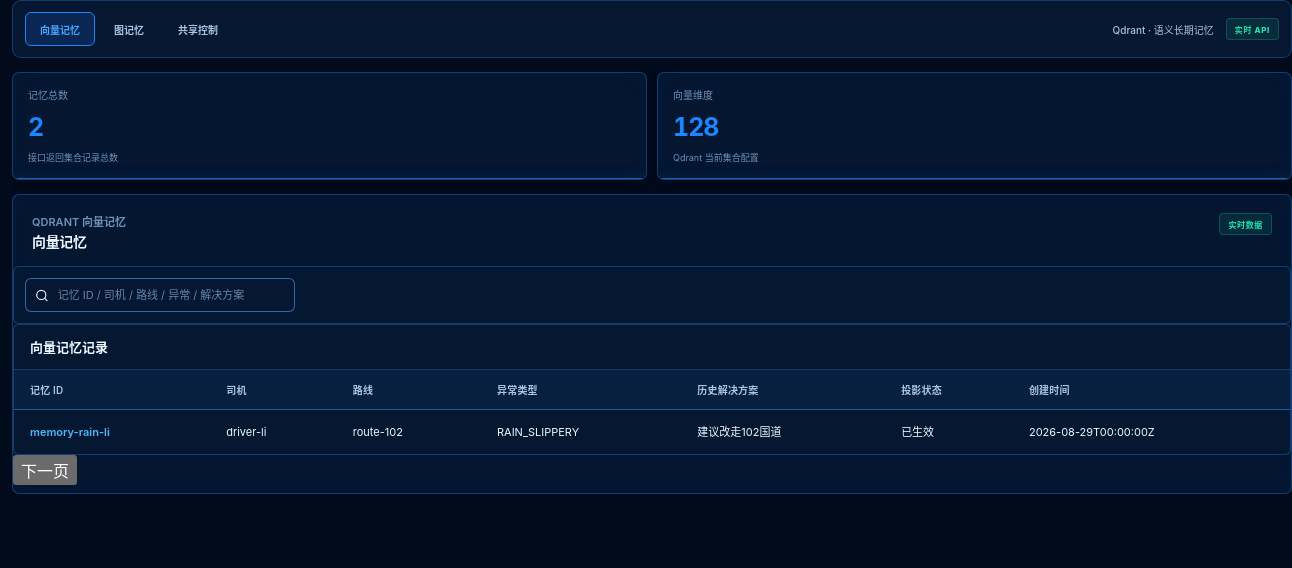
Scenario: vector memory API list › recovers from an empty cursor page through previous and home controls
The width and height of the screenshot is (1292, 568).
Click the button "下一页": (45, 470) [13,454,77,484]
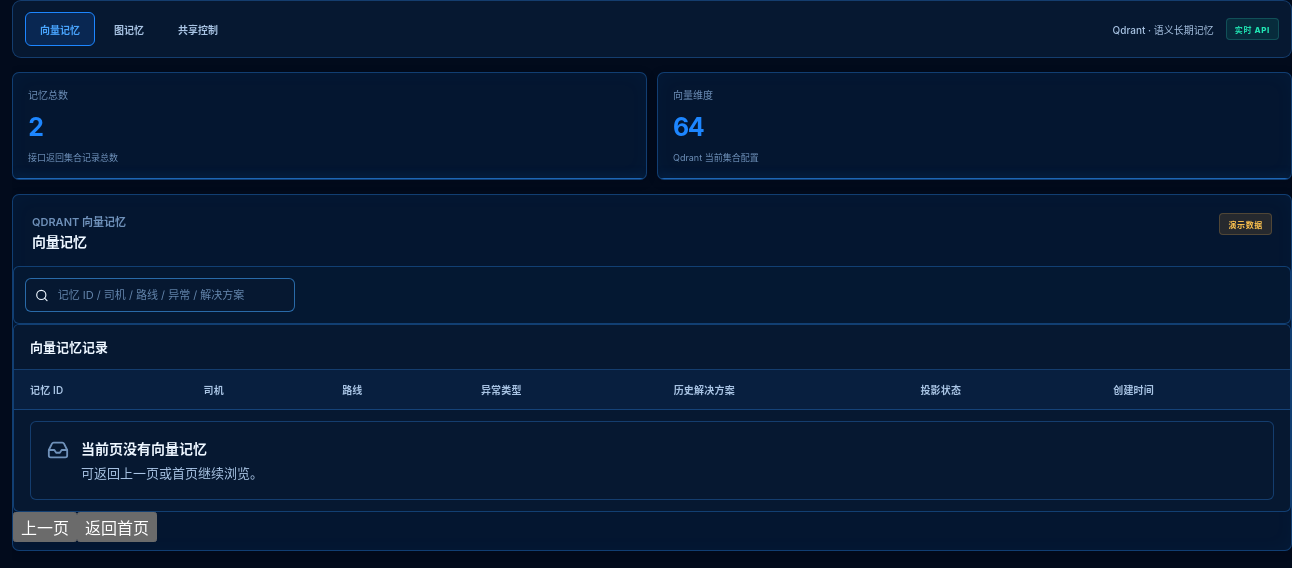
Now the text "当前页没有向量记忆" is shown, box [81,440,207,457]
Now the text "上一页" is shown, box [81,463,263,483]
Now the text "返回首页" is shown
Click the button "返回首页": (117, 527) [77,512,157,542]
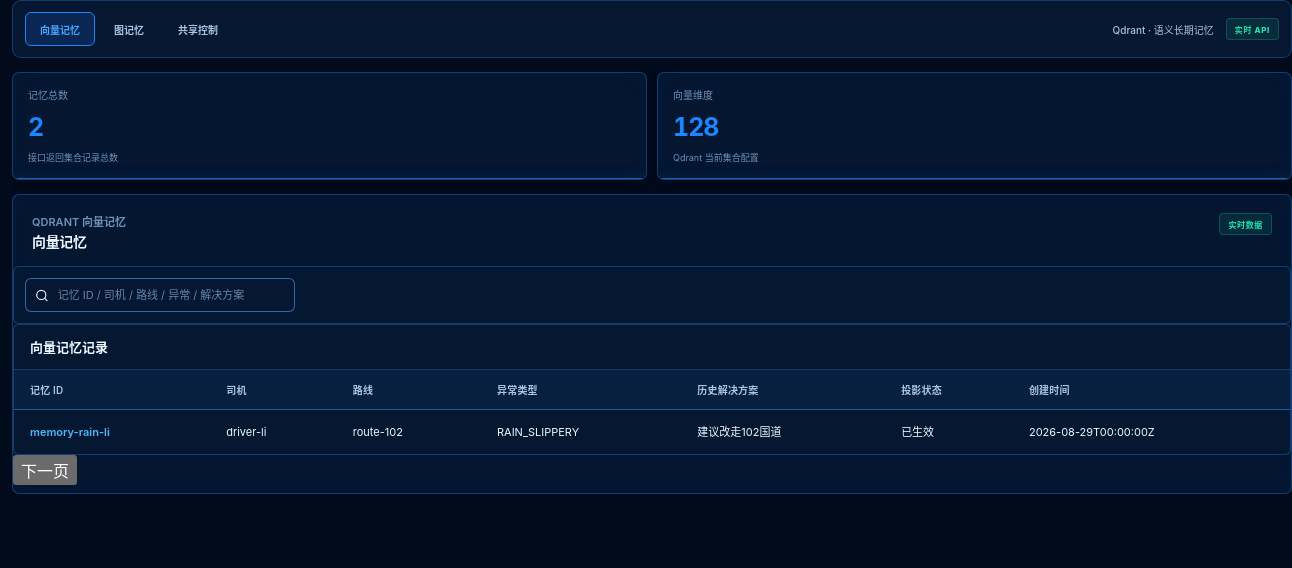
Now the text "memory-rain-li" is shown, box [30,422,110,442]
